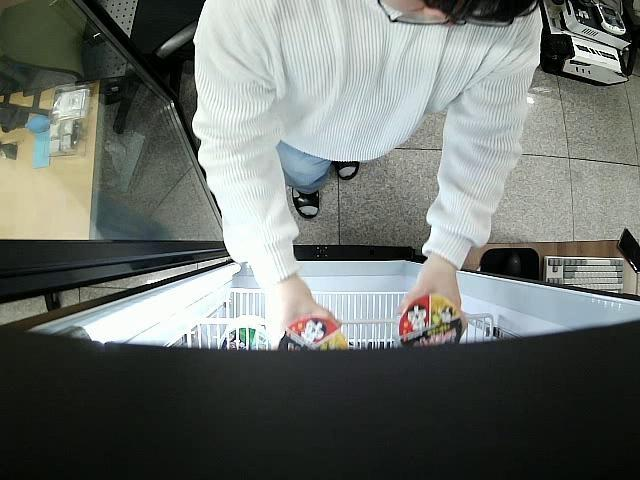08_buldak_S: (400, 295, 460, 348), (279, 316, 348, 351)
